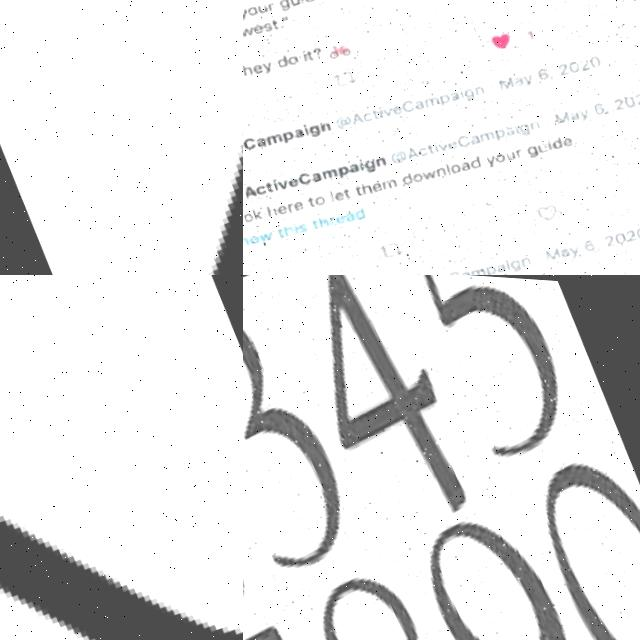0: (504, 425, 640, 640)
2: (584, 230, 600, 248), (593, 94, 608, 109), (538, 60, 552, 76)
3: (243, 275, 384, 596)
4: (243, 275, 507, 557)
5: (364, 275, 600, 477)
8: (286, 533, 528, 640)
9: (390, 471, 640, 640)
K: (0, 275, 243, 640)
Z: (0, 0, 243, 275)
